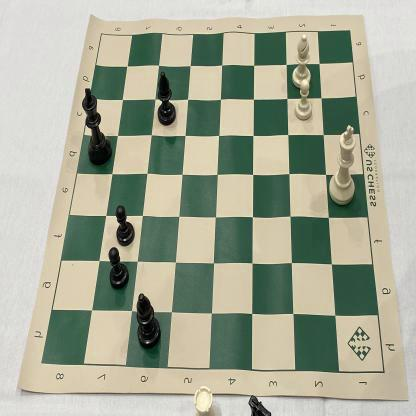black-bishop: (132, 288, 168, 352), (152, 64, 179, 130)
black-king: (78, 86, 113, 171)
black-pawn: (106, 246, 134, 292), (112, 203, 138, 249)
white-bishop: (289, 30, 314, 92)
white-king: (325, 120, 360, 211)
white-pawn: (289, 78, 316, 122)
